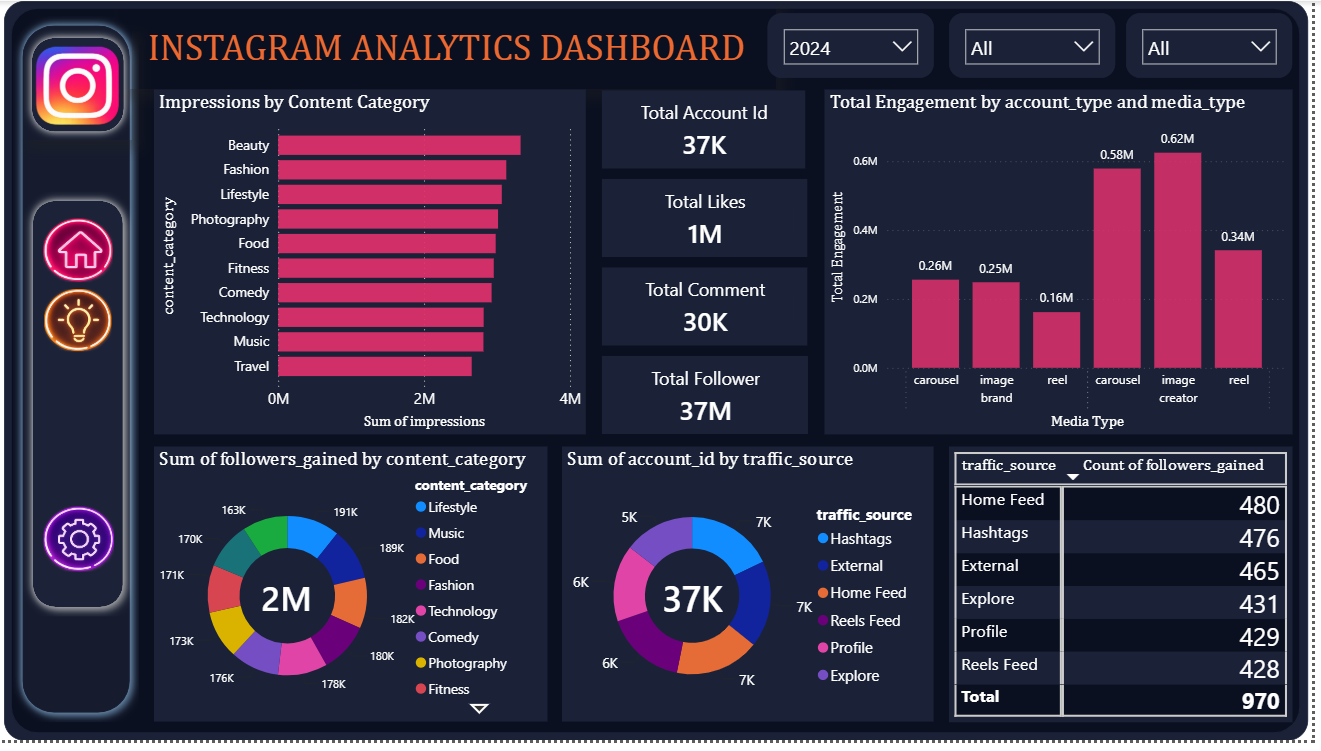

This screenshot's page, from the dashboard's own definition file:
{"tool":"powerbi","page":{"name":"Page 1","canvas":[1280,720],"ordinal":0},"visuals":[{"type":"shape","box":[6.1,0,1270.4,720.8],"z":0},{"type":"shape","box":[15.1,15.1,122.8,687.9],"z":1000},{"type":"cardVisual","fields":{"Data":["Instagram_Analytics.DASH BOARD TITLE"]},"box":[116.6,1.5,640.5,84.8],"z":2000},{"type":"columnChart","fields":{"Category":["Instagram_Analytics.account_type","Instagram_Analytics.media_type"],"Y":["Instagram_Analytics.Total Engagement"]},"box":[805.6,86.3,455.8,336.2],"z":3000},{"type":"donutChart","fields":{"Category":["Instagram_Analytics.content_category"],"Y":["Sum(Instagram_Analytics.followers_gained)"]},"box":[151.4,434.6,383.1,268],"z":4000},{"type":"donutChart","fields":{"Category":["Instagram_Analytics.traffic_source","Instagram_Analytics.engagement_rate"],"Y":["Sum(Instagram_Analytics.account_id)"]},"box":[549.7,434.6,361.9,268],"z":5000},{"type":"cardVisual","fields":{"Data":["Instagram_Analytics.TOTAL LIKES"]},"box":[583,168.1,210.5,86.3],"z":6000},{"type":"cardVisual","fields":{"Data":["Instagram_Analytics.total comment"]},"box":[583,254.4,210.5,86.3],"z":7000},{"type":"cardVisual","fields":{"Data":["Instagram_Analytics.total follower"]},"box":[583,340.7,212,86],"z":8000},{"type":"slicer","fields":{"Values":["Instagram_Analytics.year"]},"box":[749.5,12.1,162,63.6],"z":9000},{"type":"slicer","fields":{"Values":["Instagram_Analytics.media_type"]},"box":[926.7,12.1,162,63.6],"z":10000},{"type":"slicer","fields":{"Values":["Instagram_Analytics.account_type"]},"box":[1099.3,12.1,162,63.6],"z":11000},{"type":"pivotTable","fields":{"Rows":["Instagram_Analytics.traffic_source"],"Values":["Count(Instagram_Analytics.followers_gained)"]},"box":[926,434.6,334.5,268.3],"z":12000},{"type":"shape","box":[24.6,28.3,105.8,107.7],"z":13000},{"type":"image","box":[36.3,43.9,81.8,77.2],"z":14000},{"type":"shape","box":[24.6,185.2,105.8,413.9],"z":15000},{"type":"image","box":[43.9,212,68.1,62.1],"z":16000},{"type":"image","box":[42.4,492.1,72.7,63.6],"z":17000},{"type":"image","box":[43.9,280.1,68.1,60.6],"z":18000},{"type":"actionButton","box":[30.3,224.1,99.9,39.4],"z":19000},{"type":"cardVisual","fields":{"Data":["Sum(Instagram_Analytics.followers_gained)"]},"box":[199.9,523.9,162,113.6],"z":20000},{"type":"cardVisual","fields":{"Data":["Sum(Instagram_Analytics.account_id)"]},"box":[617.8,523.9,139.3,113.6],"z":21000},{"type":"clusteredBarChart","title":"Impressions by Content Category","fields":{"Category":["Instagram_Analytics.content_category"],"Y":["Sum(Instagram_Analytics.impressions)"]},"box":[151.4,86.3,420.9,336.2],"z":22000},{"type":"cardVisual","fields":{"Data":["Instagram_Analytics.total account id"]},"box":[583,81.8,209,86],"z":23000}]}

Visuals, with their boxes in screenshot pixels (x1, y1, x2, y2), scaled from the page's 1280x720 canvas onto the 1321x751 screenshot:
shape: <box>6,0,1317,750</box>
shape: <box>16,16,142,733</box>
cardVisual - Instagram_Analytics.DASH BOARD TITLE: <box>120,2,781,90</box>
columnChart - Instagram_Analytics.account_type x Instagram_Analytics.media_type: <box>831,90,1302,441</box>
donutChart - Instagram_Analytics.content_category x Sum(Instagram_Analytics.followers_gained): <box>156,453,552,733</box>
donutChart - Instagram_Analytics.traffic_source x Instagram_Analytics.engagement_rate: <box>567,453,941,733</box>
cardVisual - Instagram_Analytics.TOTAL LIKES: <box>602,175,819,265</box>
cardVisual - Instagram_Analytics.total comment: <box>602,265,819,355</box>
cardVisual - Instagram_Analytics.total follower: <box>602,355,820,445</box>
slicer - Instagram_Analytics.year: <box>774,13,941,79</box>
slicer - Instagram_Analytics.media_type: <box>956,13,1124,79</box>
slicer - Instagram_Analytics.account_type: <box>1135,13,1302,79</box>
pivotTable - Instagram_Analytics.traffic_source x Count(Instagram_Analytics.followers_gained): <box>956,453,1301,733</box>
shape: <box>25,30,135,142</box>
image: <box>37,46,122,126</box>
shape: <box>25,193,135,625</box>
image: <box>45,221,116,286</box>
image: <box>44,513,119,580</box>
image: <box>45,292,116,355</box>
actionButton: <box>31,234,134,275</box>
cardVisual - Sum(Instagram_Analytics.followers_gained): <box>206,546,373,665</box>
cardVisual - Sum(Instagram_Analytics.account_id): <box>638,546,781,665</box>
"Impressions by Content Category" clusteredBarChart: <box>156,90,591,441</box>
cardVisual - Instagram_Analytics.total account id: <box>602,85,817,175</box>
